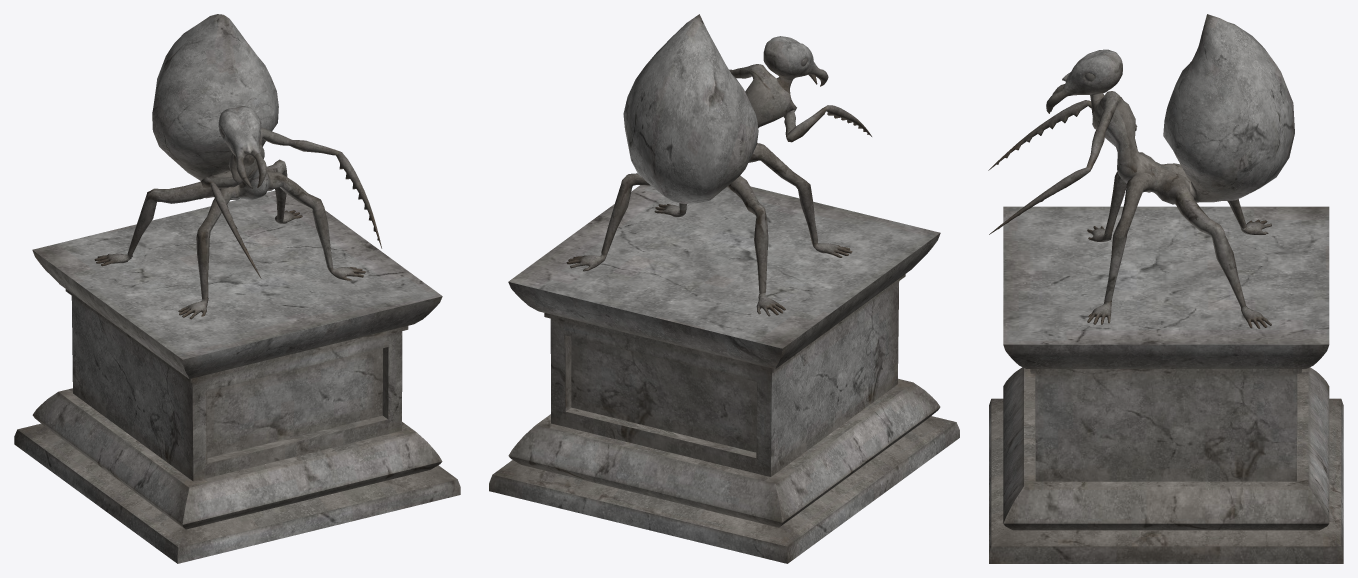
The model's file is Statue_AntMonster.fbx.
The picture shows the model from 3 angles, left to right: view 1: azimuth 30°, elevation 25°; view 2: azimuth 150°, elevation 25°; view 3: azimuth 270°, elevation 25°; orthographic projection. The views are drawn at different scales.
Visible parts, largest first — view 1: Statue_AntMonster; view 2: Statue_AntMonster; view 3: Statue_AntMonster.
Part boxes in pixels (box(x1,y1,x2,y2)): Statue_AntMonster: box(14, 14, 460, 563); Statue_AntMonster: box(489, 14, 959, 563); Statue_AntMonster: box(988, 14, 1343, 563).
Size of the model in its own units: 271 by 403 by 272.
